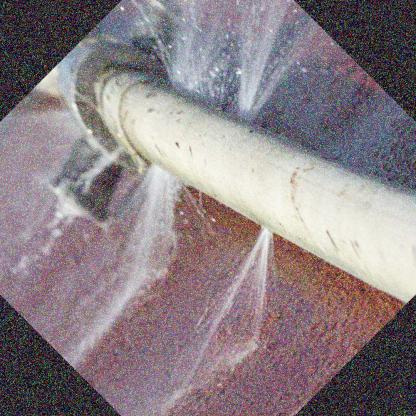burst: (167, 58, 269, 127), (223, 200, 296, 254), (135, 153, 204, 210)
